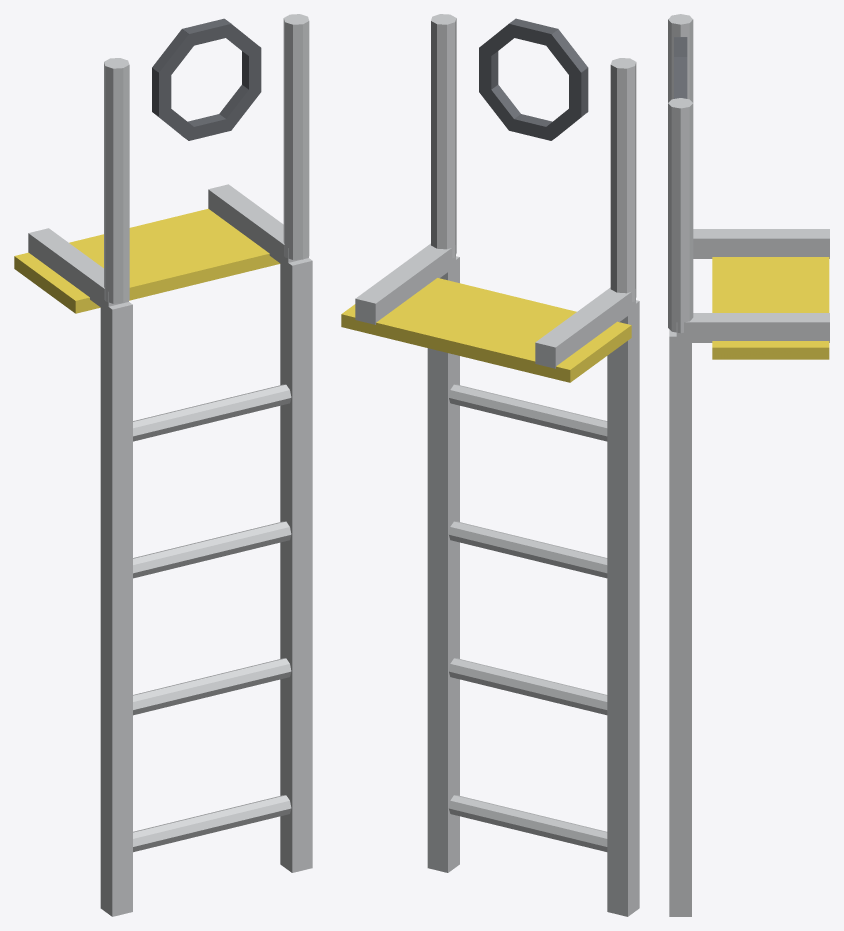
Rendered from marina-and-yacht-club-marina-and-yacht-club-pontoon-bo-9f34138f__38292.glb.
The picture shows the model from 3 angles, left to right: view 1: azimuth 30°, elevation 25°; view 2: azimuth 150°, elevation 25°; view 3: azimuth 270°, elevation 25°; orthographic projection. The views are drawn at different scales.
Parts seen in each view (by area): view 1: marina-and-yacht-club-pontoon-boarding-ladder; view 2: marina-and-yacht-club-pontoon-boarding-ladder; view 3: marina-and-yacht-club-pontoon-boarding-ladder.
Part boxes in pixels (box(x1,y1,x2,y2)): marina-and-yacht-club-pontoon-boarding-ladder: box(14, 14, 312, 916); marina-and-yacht-club-pontoon-boarding-ladder: box(341, 14, 639, 916); marina-and-yacht-club-pontoon-boarding-ladder: box(668, 14, 829, 916).
Bounding box in the file's own units: 0.56 × 2.02 × 0.3592.
